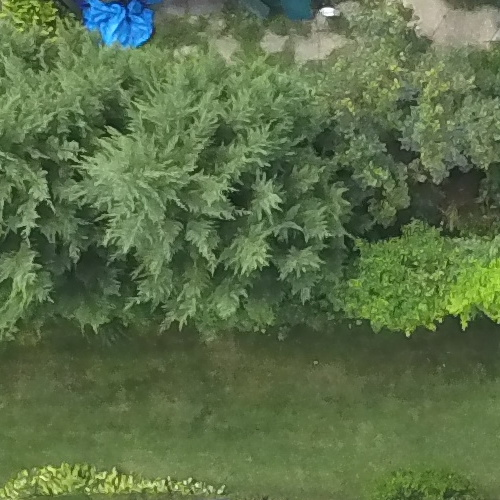tarp: (82, 1, 185, 56)
